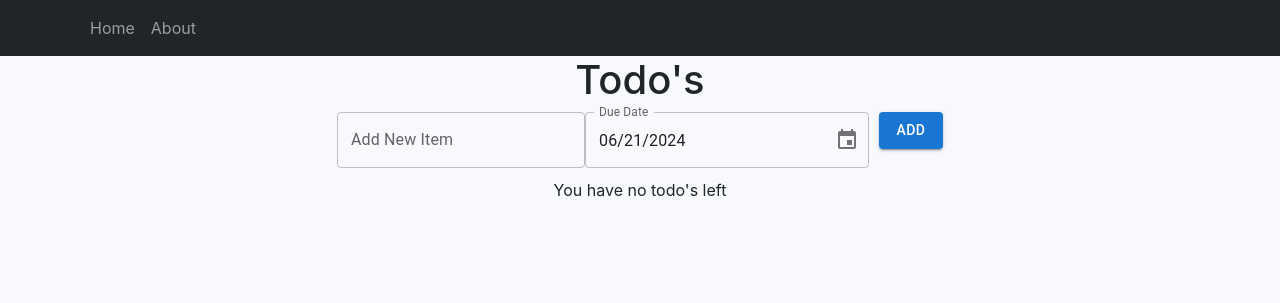
test that App component can delete tasks through checkbox
Type "Task to Delete" into the field labelled "Add New Item" at coordinates (461, 140), box 337,112 -> 585,168
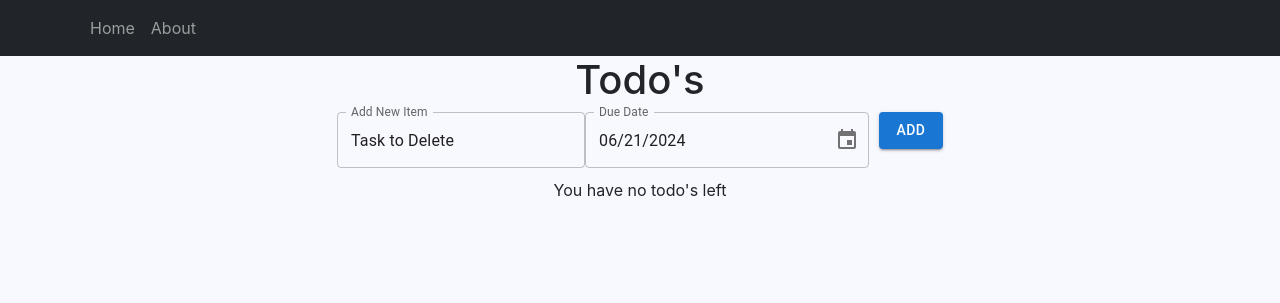
Replace the text in the field with placeholder "mm/dd/yyyy" with "06/30/2024" at coordinates (702, 140), box 585,112 -> 819,168
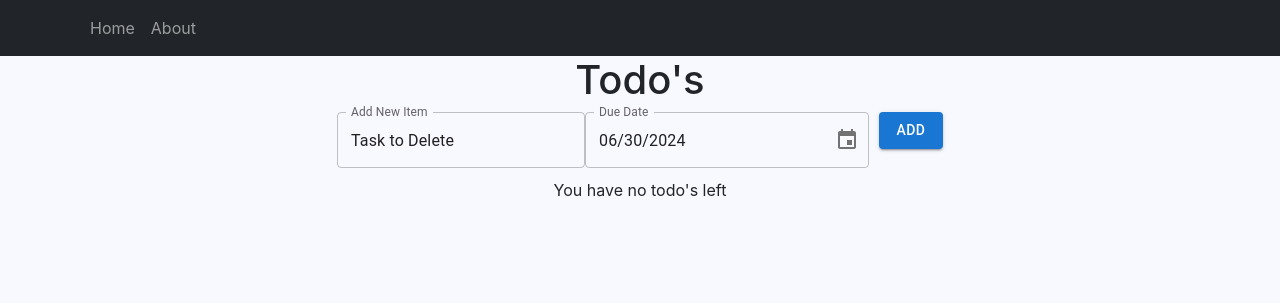
Click the button "Add" at coordinates (911, 130), box 879,112 -> 943,148
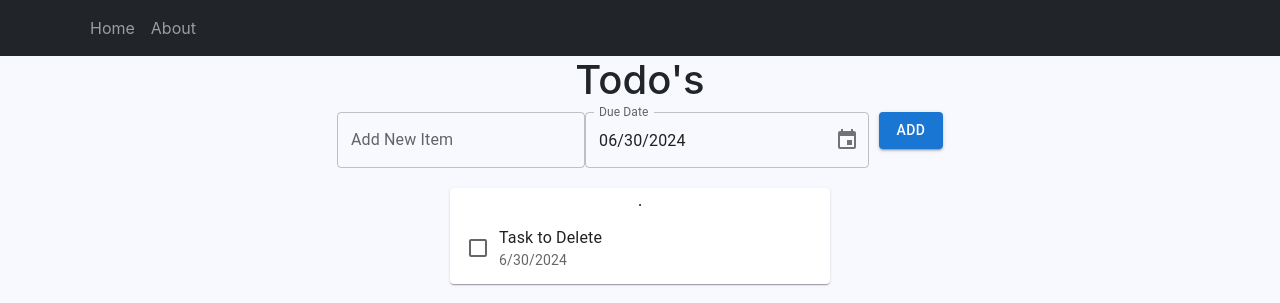
Check: the text "Task to Delete" is shown, box 499,228 -> 602,247
Click the checkbox at coordinates (478, 248), box 466,236 -> 490,260
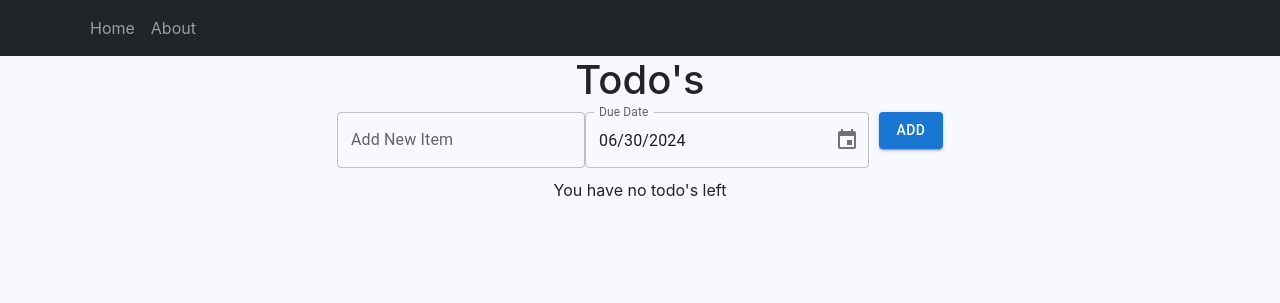
Check: the link "Task to Delete" is gone
